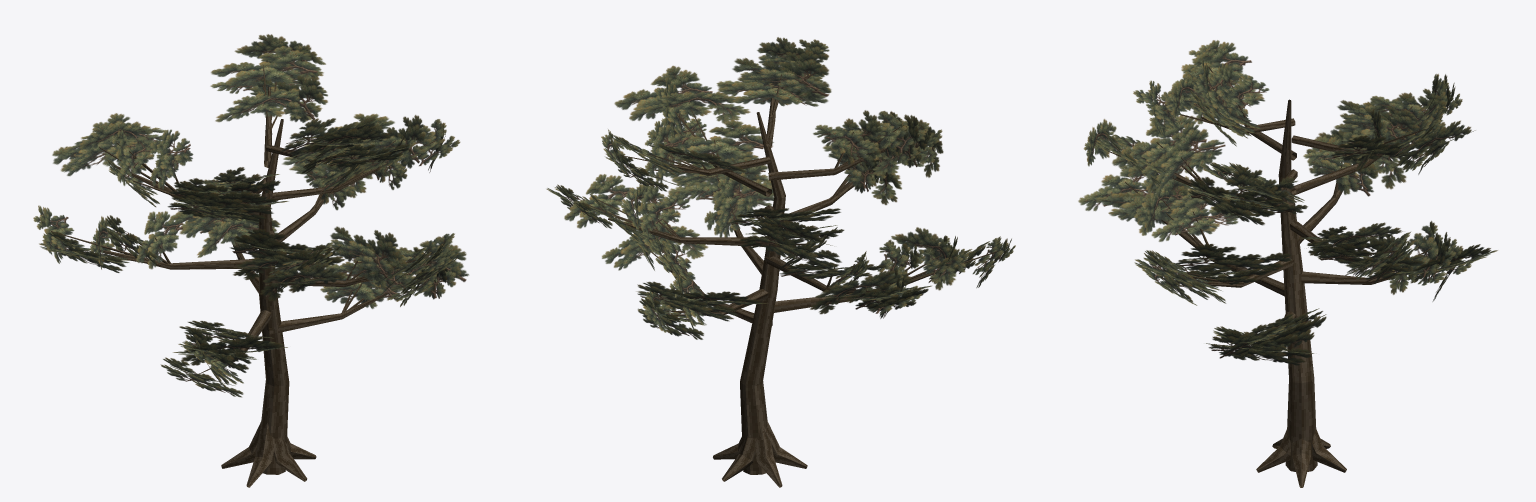
Rendered from chinese_pine_b.glb.
3 renders of one model, left to right at view 1: azimuth 30°, elevation 25°; view 2: azimuth 150°, elevation 25°; view 3: azimuth 270°, elevation 25°, orthographic. The views are drawn at different scales.
Parts seen in each view (by area): view 1: chinese_pine_b / painted boughs, chinese_pine_b / crooked wood; view 2: chinese_pine_b / painted boughs, chinese_pine_b / crooked wood; view 3: chinese_pine_b / painted boughs, chinese_pine_b / crooked wood.
Boxes of the visible parts, box(x1,y1,x2,y2) form: chinese_pine_b / painted boughs: box(33, 34, 468, 397); chinese_pine_b / crooked wood: box(51, 63, 437, 487); chinese_pine_b / painted boughs: box(546, 37, 1015, 339); chinese_pine_b / crooked wood: box(582, 74, 997, 487); chinese_pine_b / painted boughs: box(1078, 40, 1497, 365); chinese_pine_b / crooked wood: box(1108, 66, 1442, 487).
Size of the model in its own units: 7.54 by 6.85 by 6.93.
Materials: 2 (2 with a texture image).
